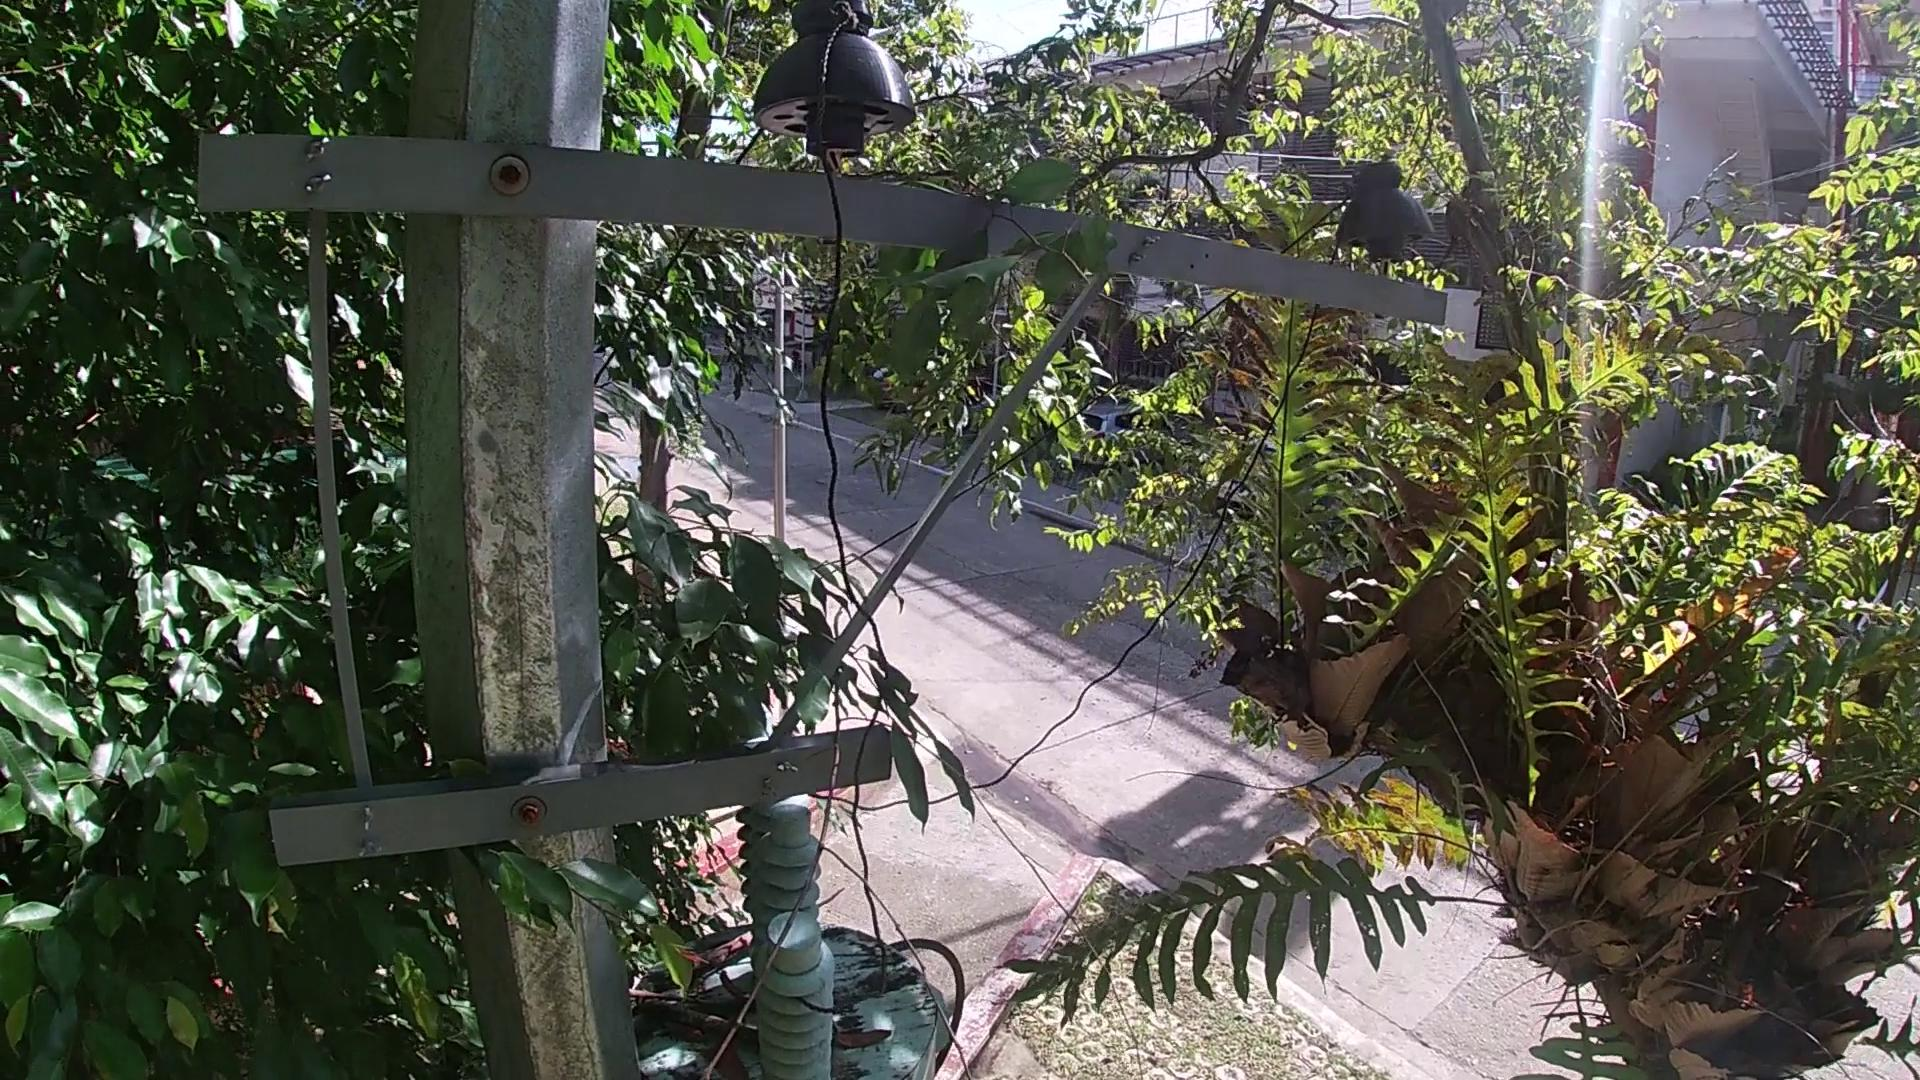mahogany fruit: (824, 1029, 899, 1056), (708, 965, 753, 997)
tree branch: (754, 588, 1163, 1073), (655, 936, 761, 992), (645, 1007, 752, 1044), (621, 996, 764, 1015)
